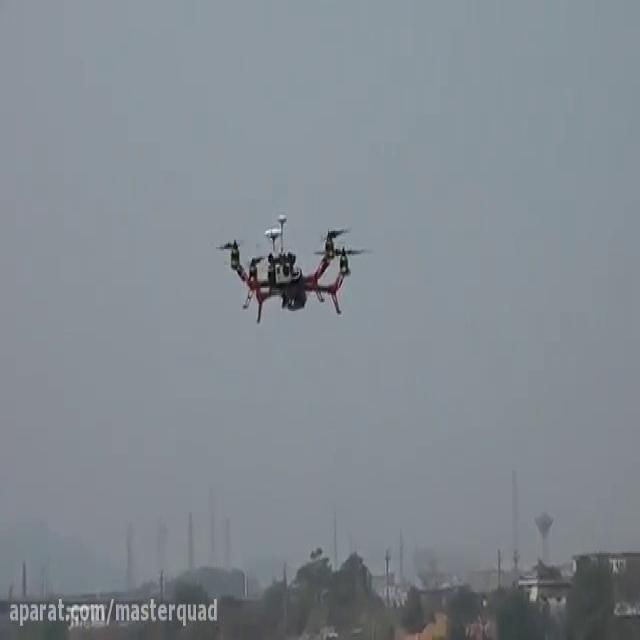drone: (209, 210, 373, 329)
